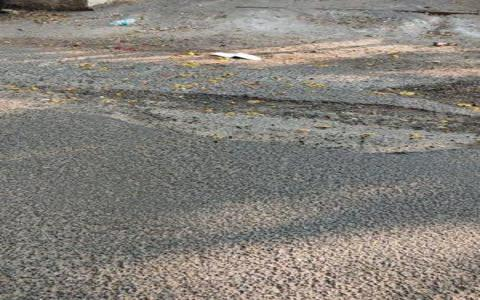patchy roads: (5, 52, 463, 178)
